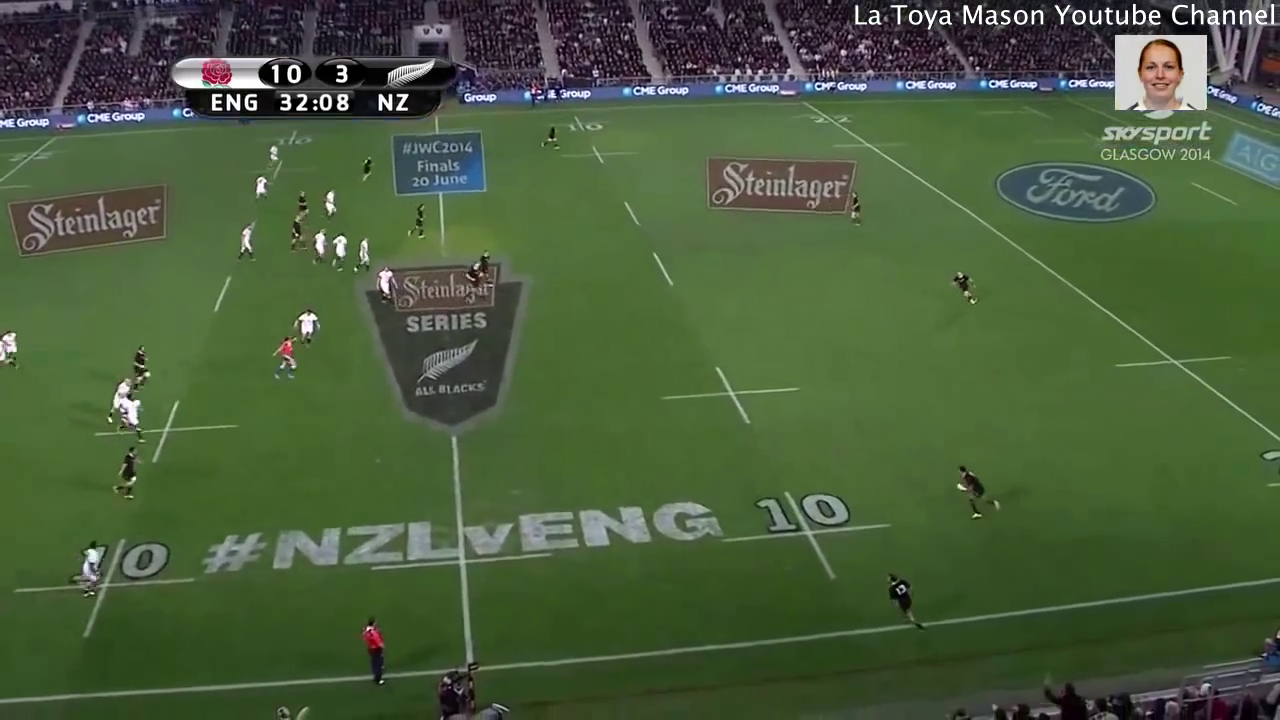10_metre: (1, 528, 202, 645), (715, 483, 907, 585), (651, 356, 809, 436), (87, 392, 240, 468), (542, 140, 641, 166), (234, 154, 324, 181), (255, 128, 343, 150), (544, 114, 627, 133)
player: (879, 566, 933, 637), (357, 609, 398, 693), (953, 457, 1004, 524), (102, 441, 142, 508), (72, 537, 113, 601), (264, 327, 307, 385), (117, 389, 152, 447), (106, 372, 138, 432), (290, 305, 324, 355), (945, 267, 981, 312), (130, 341, 158, 393), (374, 260, 401, 311), (402, 200, 432, 245), (352, 232, 378, 280), (328, 225, 353, 273), (460, 256, 485, 301), (1, 328, 25, 374), (845, 187, 869, 232), (305, 222, 328, 266), (293, 185, 318, 225), (286, 209, 307, 256), (535, 122, 563, 157), (237, 219, 258, 265), (3, 327, 27, 366), (318, 182, 341, 222), (355, 153, 379, 183), (476, 248, 493, 287), (265, 139, 285, 171), (252, 173, 270, 203)
